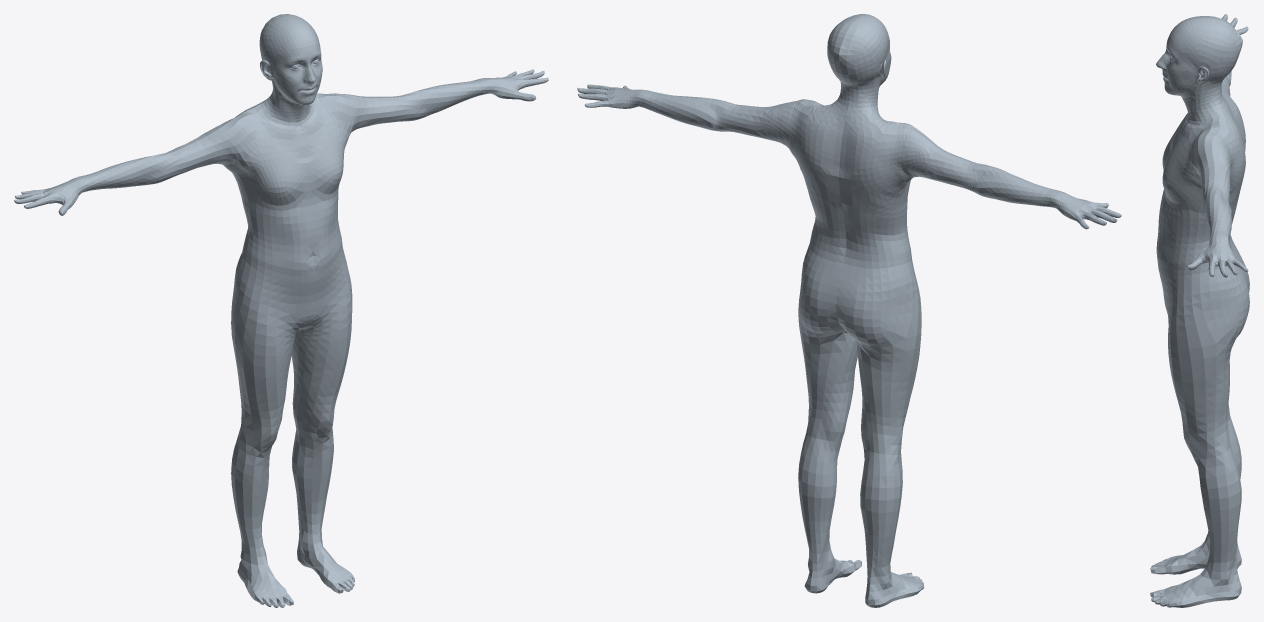
File: person-001.glb
The picture shows the model from 3 angles, left to right: view 1: azimuth 30°, elevation 25°; view 2: azimuth 150°, elevation 25°; view 3: azimuth 270°, elevation 25°; orthographic projection.
Visible parts, largest first — view 1: world; view 2: world; view 3: world.
Boxes of the visible parts, <box> form: world: <box>14,14,548,607</box>; world: <box>577,14,1121,607</box>; world: <box>1150,14,1249,607</box>.
Bounding box in the file's own units: 1.78 × 1.81 × 0.2888.
